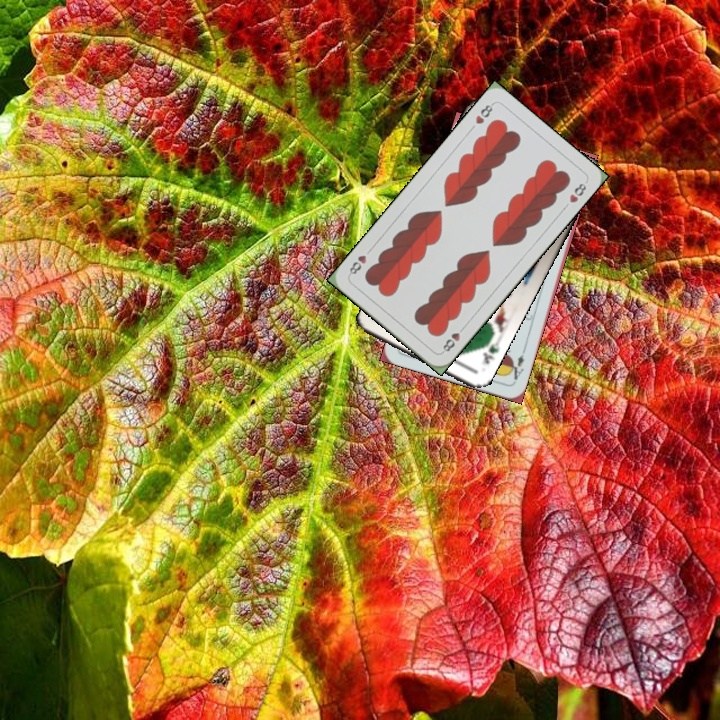EA: (505, 345, 528, 385)
GK: (479, 339, 502, 367)
H8: (439, 321, 468, 355), (471, 99, 497, 127)
